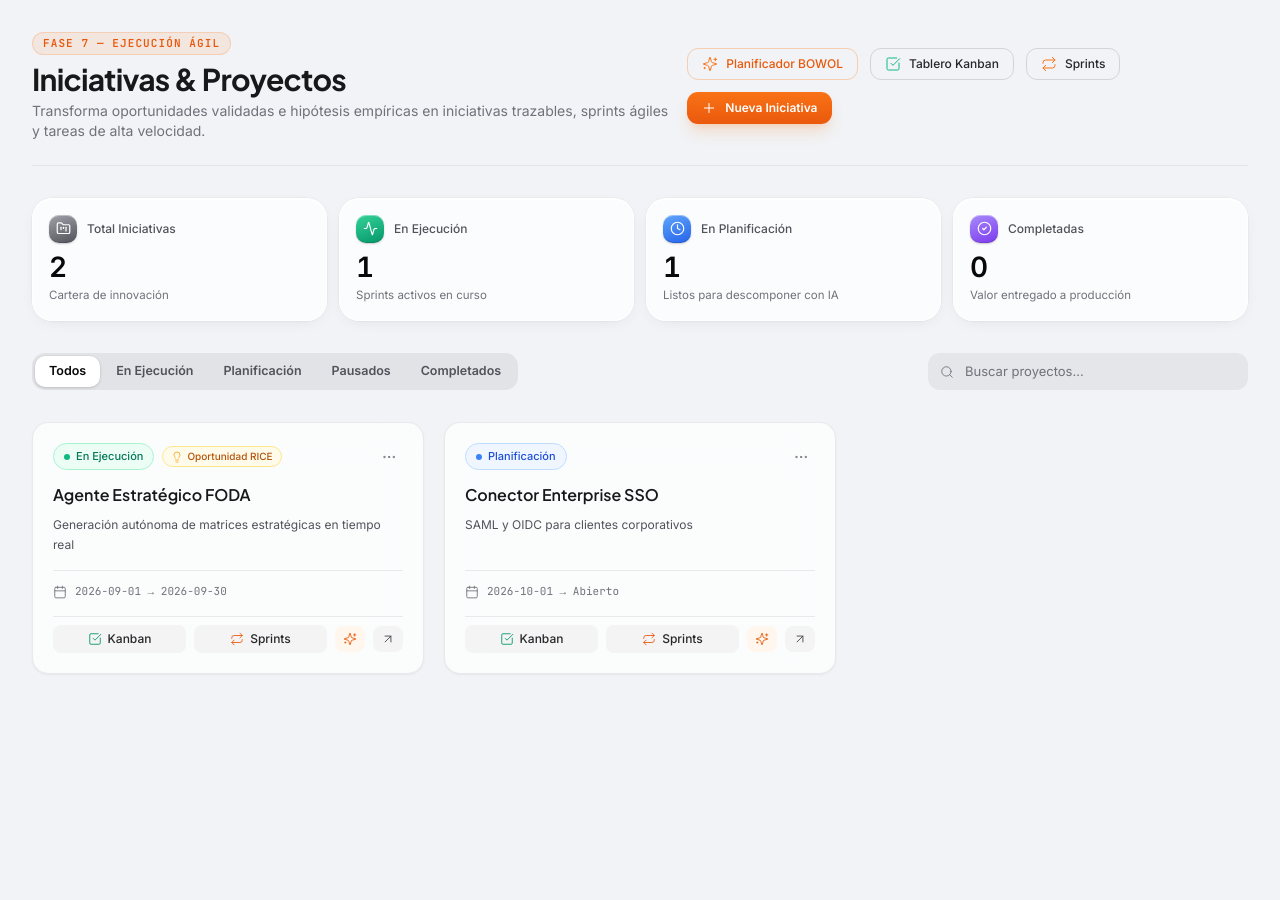
ProjectsPage Component (Fase 7 - Ejecución Ágil) › permite filtrar proyectos por estado
Check: the heading "Agente Estratégico FODA" is shown, box [53,484,251,505]
What coordinates should you click on to do the following:
click the button "Planificación"
I would click on:
 (262, 371)
Its box is [210,356,316,387].
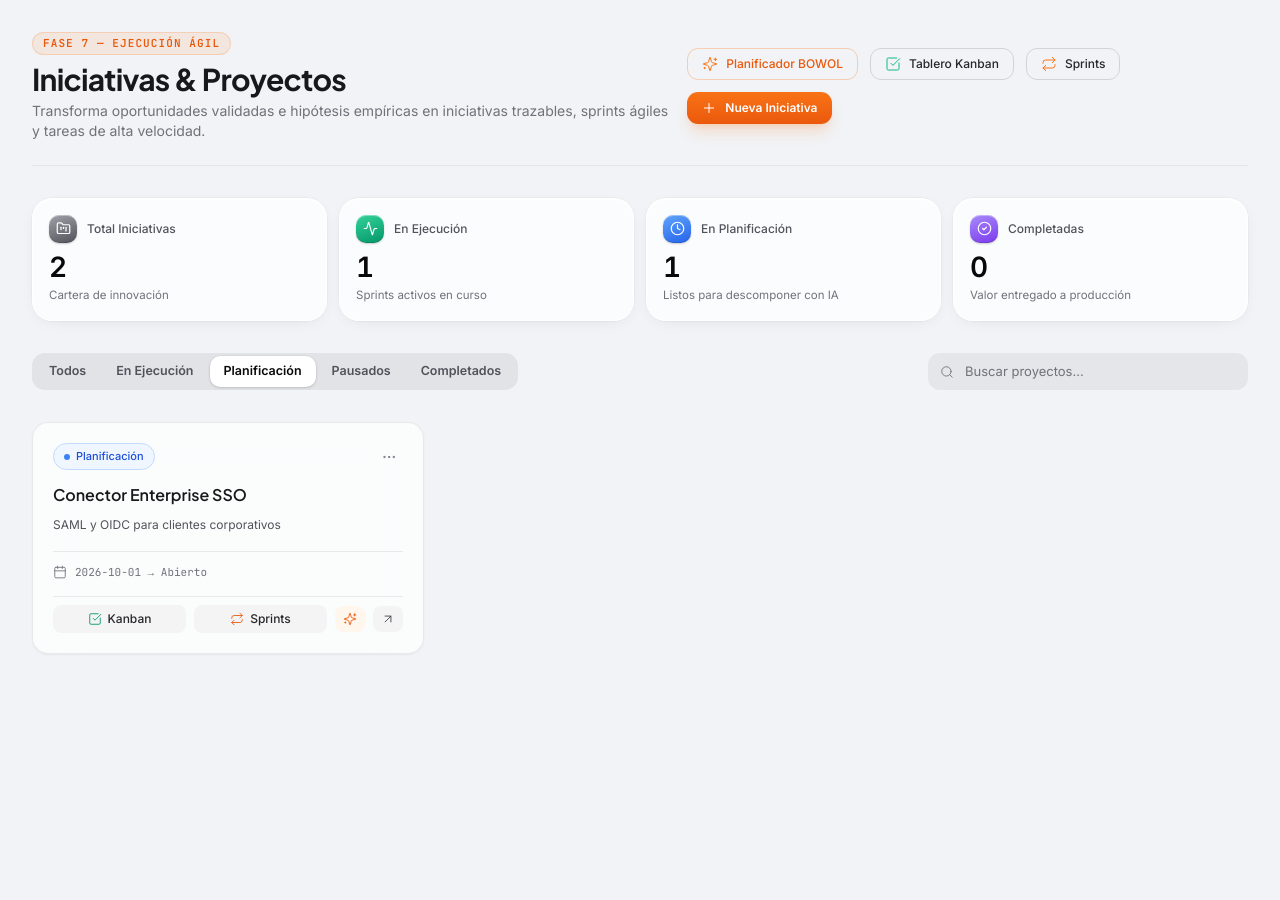
Check: the heading "Conector Enterprise SSO" is shown, box [53,484,247,505]
Check: the heading "Agente Estratégico FODA" is gone
